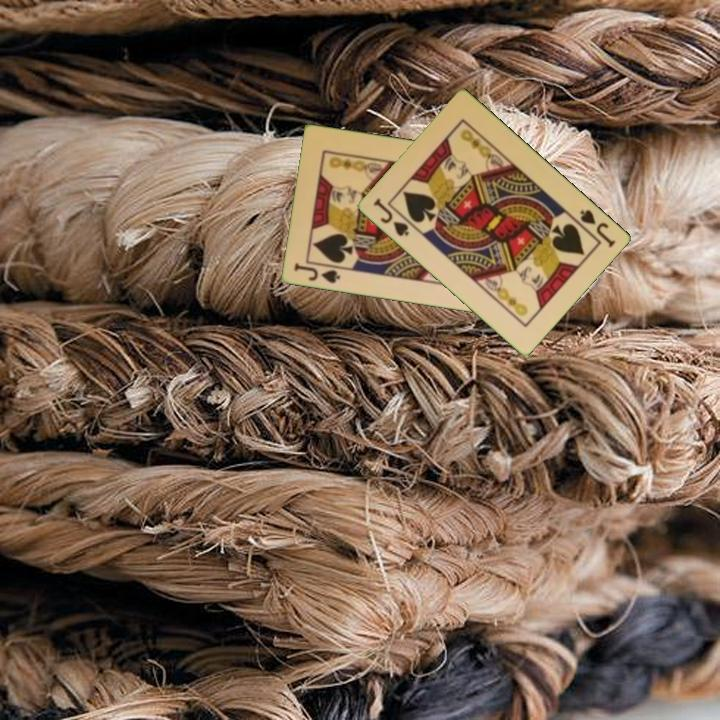Js: (577, 206, 619, 251), (370, 194, 412, 239), (291, 259, 344, 286)
